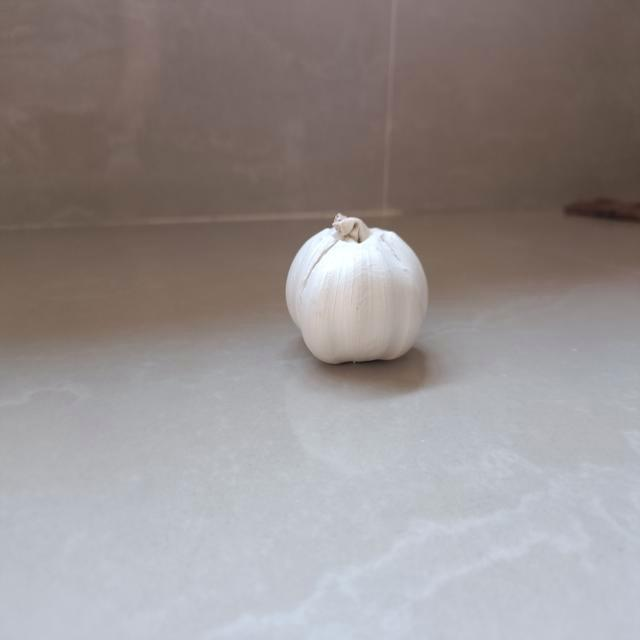garlic: (279, 207, 432, 370)
